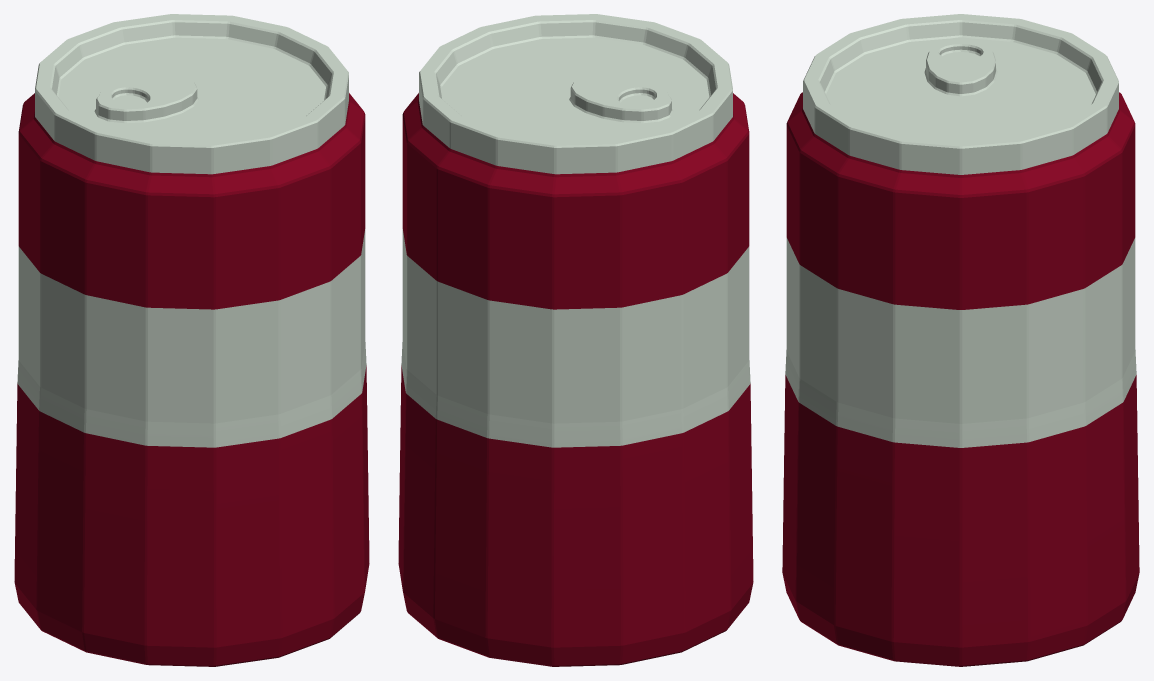
The model's file is Can_5_Partyassets.fbx.
3 views of the same model, side by side, from view 1: azimuth 30°, elevation 25°; view 2: azimuth 150°, elevation 25°; view 3: azimuth 270°, elevation 25° (orthographic).
Parts seen in each view (by area): view 1: Can_5_Partyassets; view 2: Can_5_Partyassets; view 3: Can_5_Partyassets.
Part boxes in pixels (<box>): Can_5_Partyassets: <box>14,14,369,666</box>; Can_5_Partyassets: <box>398,14,753,666</box>; Can_5_Partyassets: <box>782,14,1139,666</box>.
Bounding box in the file's own units: 6.37 × 10.11 × 6.37.
